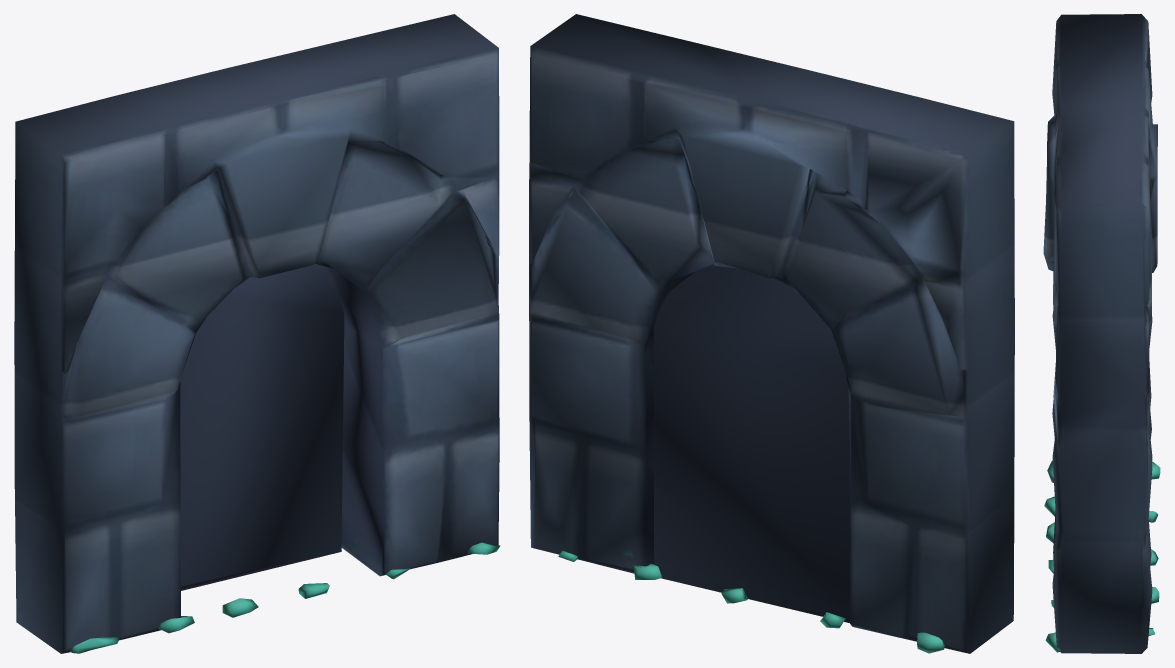
Rendered from arch.glb.
3 views of the same model, side by side, from view 1: azimuth 30°, elevation 25°; view 2: azimuth 150°, elevation 25°; view 3: azimuth 270°, elevation 25° (orthographic). The views are drawn at different scales.
Parts seen in each view (by area): view 1: stone; view 2: stone; view 3: stone.
Boxes of the visible parts, x1=… form: stone: x1=14, y1=14, x2=500, y2=653; stone: x1=529, y1=14, x2=1014, y2=653; stone: x1=1043, y1=14, x2=1160, y2=653.
Bounding box in the file's own units: 2.2 × 2.4 × 0.5644.
Materials: 1 (1 with a texture image).
